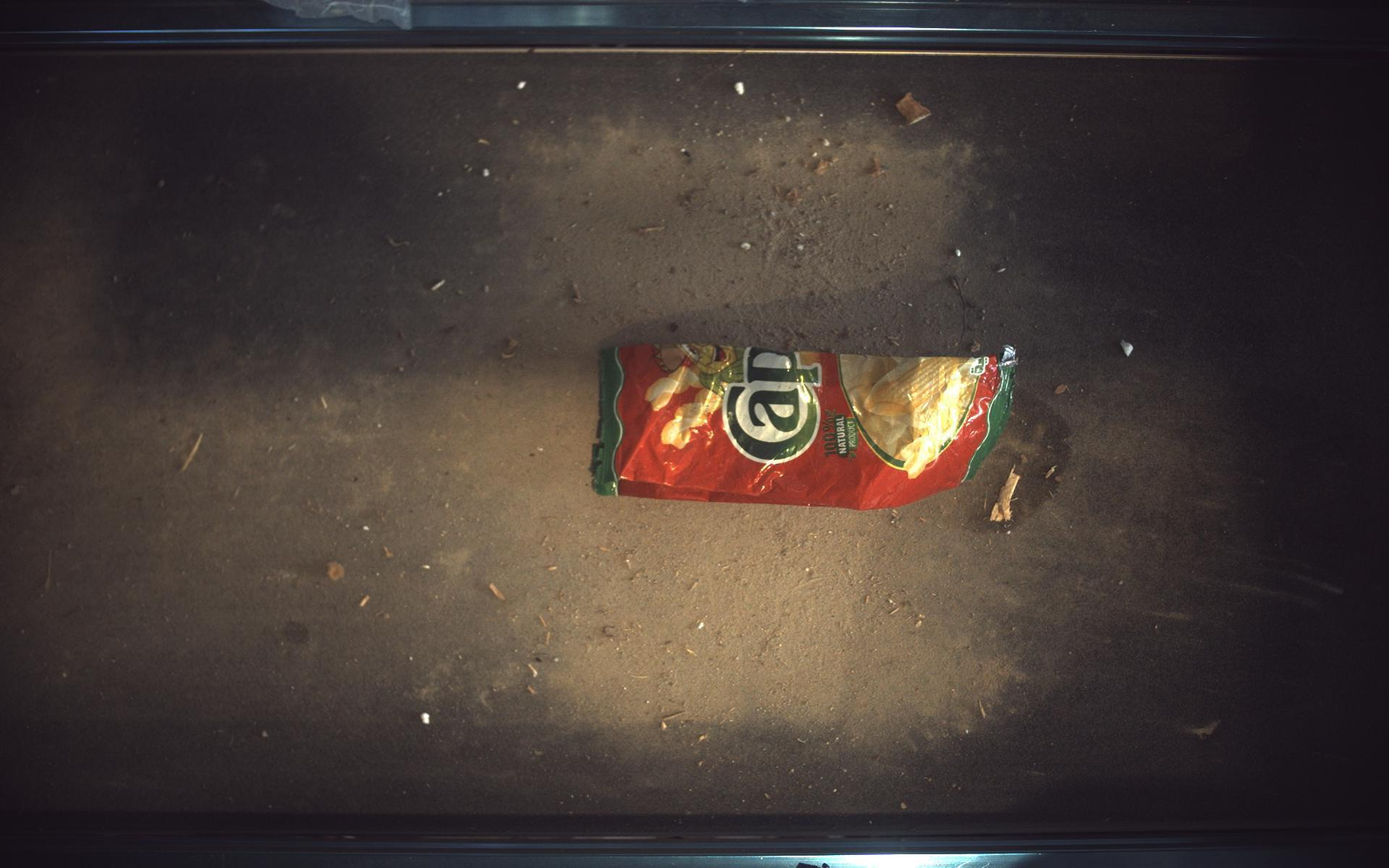general_w: (592, 344, 1019, 510)
